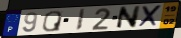2: (92, 7, 113, 31)
9: (22, 11, 39, 33)
I: (75, 8, 87, 32)
N: (114, 5, 142, 30)
Q: (41, 10, 63, 33)
X: (137, 4, 164, 28)
